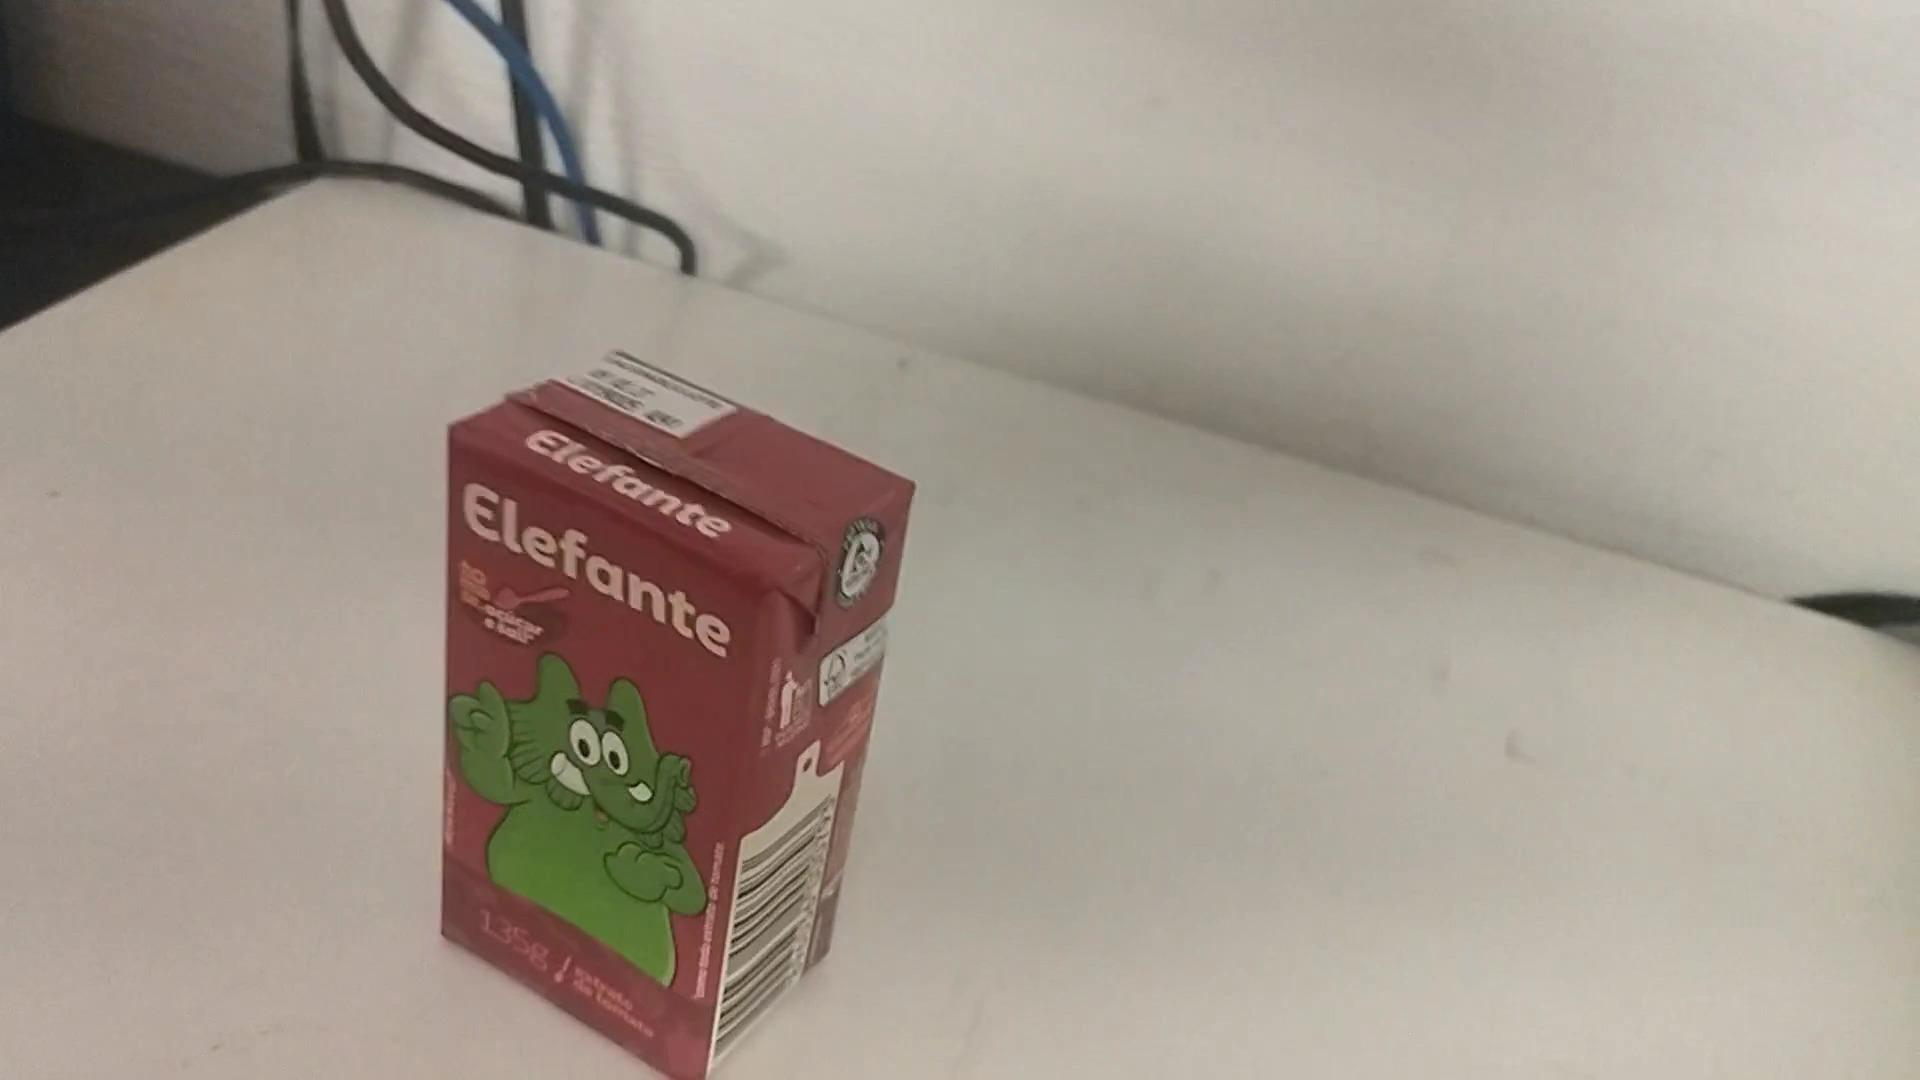tomate: (429, 340, 923, 1072)
